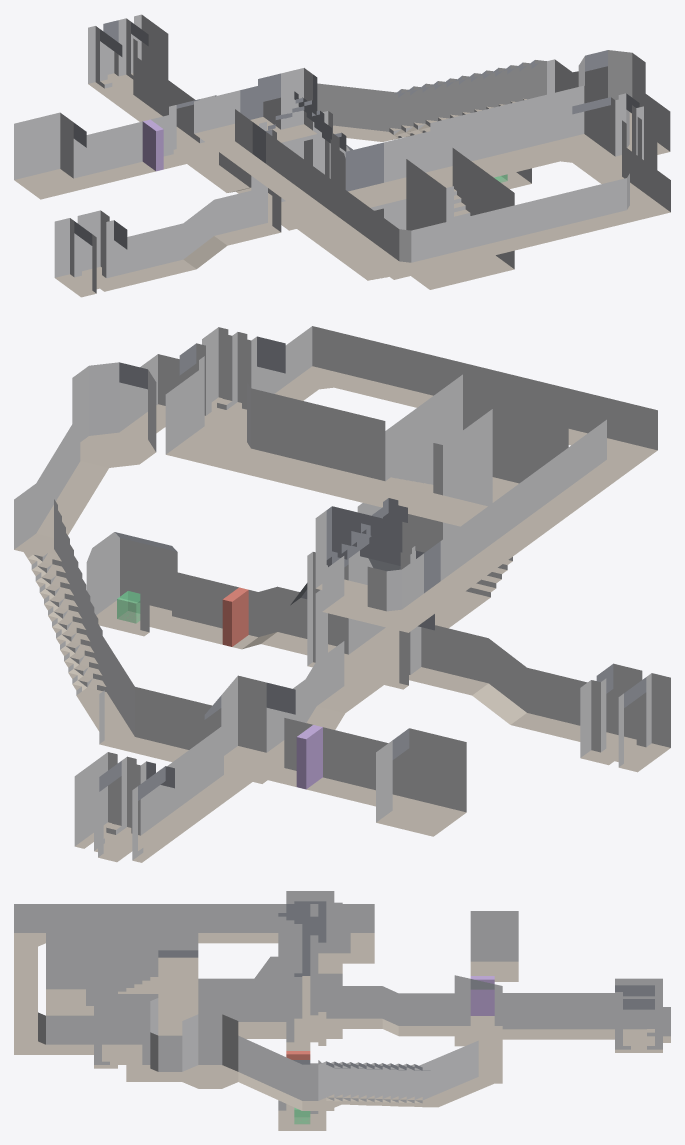
The model's file is works_05.glb.
3 views of the same model, one above another, from view 1: azimuth 30°, elevation 25°; view 2: azimuth 150°, elevation 25°; view 3: azimuth 270°, elevation 25° (orthographic). The views are drawn at different scales.
Visible parts, largest first — view 1: corridor:8, corridor:7, room:7, corridor:0, corridor:4, room:1, room:6, corridor:5, room:4, room:5, corridor:3, room:0 (+13 smaller); view 2: corridor:8, corridor:7, room:7, corridor:0, corridor:4, room:1, room:6, corridor:1, room:2, corridor:5, room:5, corridor:3 (+13 smaller); view 3: corridor:7, corridor:8, room:7, corridor:3, room:1, corridor:2, room:0, room:6, room:4, corridor:6, room:1/portals, room:3 (+10 smaller).
Part boxes in pixels (left/top/right/bottom): corridor:8: left=194, top=86, right=670, bottom=279; corridor:7: left=317, top=50, right=670, bottom=154; room:7: left=345, top=131, right=514, bottom=289; corridor:0: left=430, top=85, right=610, bottom=186; corridor:4: left=114, top=190, right=281, bottom=285; room:1: left=251, top=68, right=339, bottom=231; room:6: left=14, top=112, right=86, bottom=199; corridor:5: left=73, top=114, right=186, bottom=188; room:4: left=88, top=14, right=168, bottom=103; room:5: left=54, top=210, right=127, bottom=297; corridor:3: left=115, top=58, right=199, bottom=148; room:0: left=572, top=93, right=657, bottom=183; corridor:8: left=257, top=326, right=657, bottom=632; corridor:7: left=14, top=354, right=221, bottom=762; room:7: left=357, top=374, right=568, bottom=617; corridor:0: left=165, top=370, right=385, bottom=501; corridor:4: left=416, top=625, right=613, bottom=741; room:1: left=307, top=506, right=424, bottom=692; room:6: left=376, top=728, right=466, bottom=836; corridor:1: left=156, top=571, right=339, bottom=650; room:2: left=86, top=532, right=177, bottom=636; corridor:5: left=268, top=718, right=409, bottom=809; room:5: left=580, top=663, right=670, bottom=772; corridor:3: left=146, top=725, right=251, bottom=838; corridor:7: left=126, top=1014, right=502, bottom=1110; corridor:8: left=14, top=904, right=374, bottom=1054; room:7: left=46, top=920, right=198, bottom=1015; corridor:3: left=502, top=993, right=614, bottom=1039; room:1: left=278, top=902, right=342, bottom=1045; corridor:2: left=342, top=986, right=454, bottom=1036; room:0: left=94, top=994, right=150, bottom=1068; room:6: left=470, top=911, right=518, bottom=981; room:4: left=615, top=978, right=662, bottom=1052; corridor:6: left=198, top=978, right=254, bottom=1038; room:1/portals: left=278, top=916, right=318, bottom=1021; room:3: left=454, top=975, right=502, bottom=1046.
Size of the model in its own units: 67 by 18 by 82.
